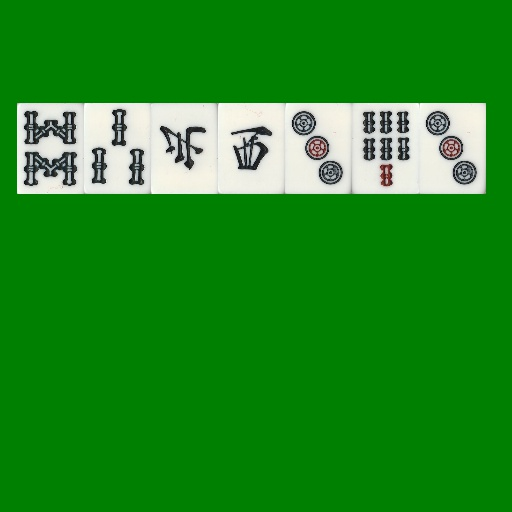3p: (285, 103, 352, 194), (419, 103, 486, 194)
3s: (84, 103, 151, 194)
7s: (352, 103, 419, 194)
8s: (17, 103, 84, 194)
north: (151, 103, 218, 194)
west: (218, 103, 285, 194)
